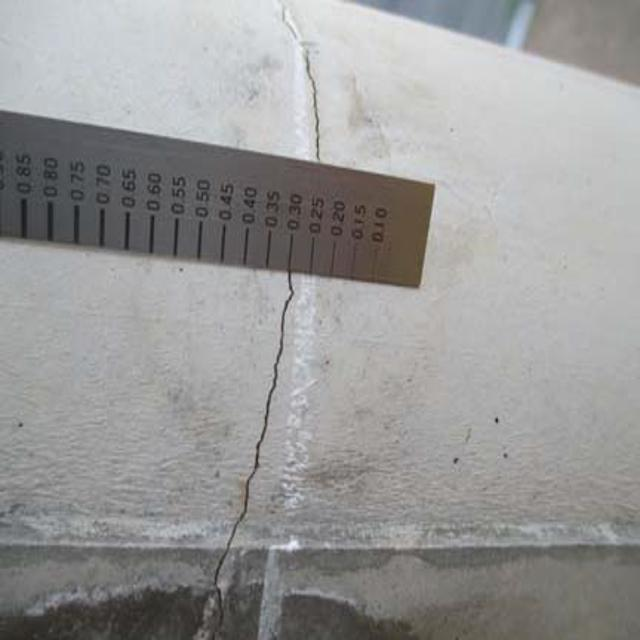crack: (186, 244, 313, 640), (263, 4, 351, 166)
